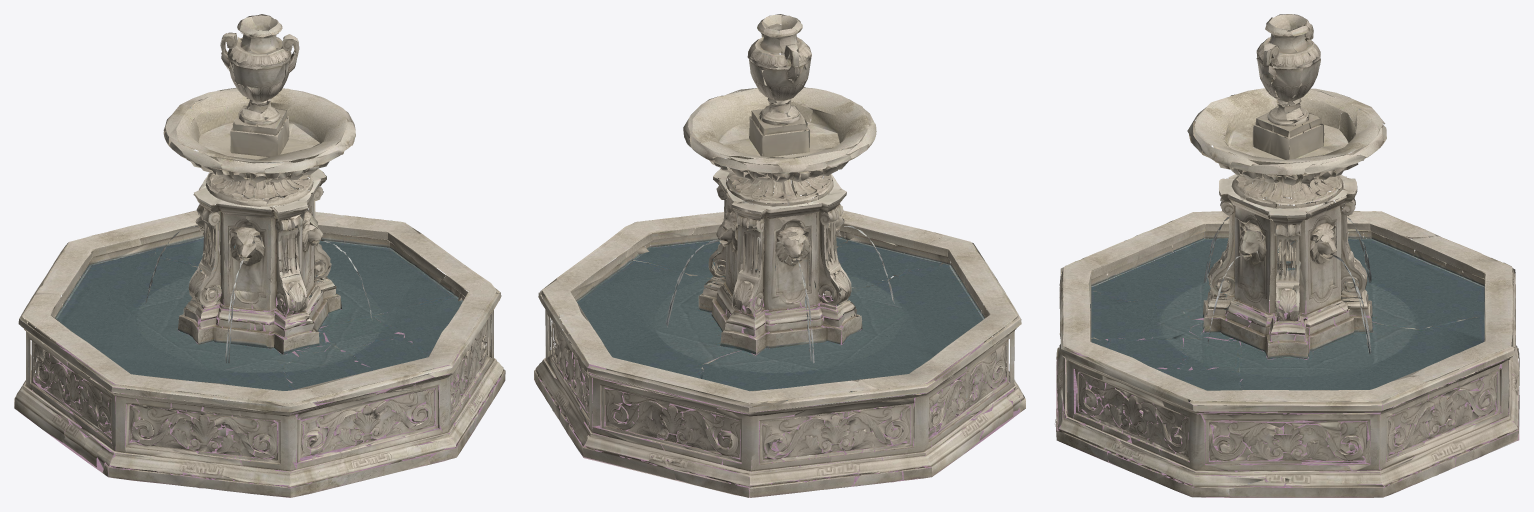
Rendered from fontaine.glb.
3 views of the same model, side by side, from view 1: azimuth 30°, elevation 25°; view 2: azimuth 150°, elevation 25°; view 3: azimuth 270°, elevation 25° (orthographic).
Parts seen in each view (by area): view 1: fontaine; view 2: fontaine; view 3: fontaine.
Boxes of the visible parts, <box> form: fontaine: <box>14,14,505,497</box>; fontaine: <box>534,14,1025,497</box>; fontaine: <box>1055,14,1519,497</box>.
Bounding box in the file's own units: 5.2 × 4.65 × 5.18.
1 material, 1 textured.
